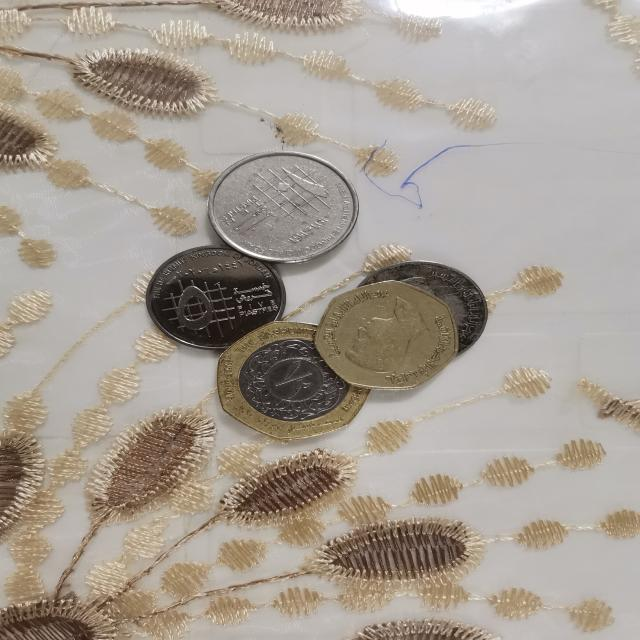10-coins: (204, 148, 365, 266)
25-coins: (309, 275, 462, 391)
5-coins: (140, 244, 288, 354), (349, 259, 491, 361)
50-coins: (215, 320, 378, 440)
